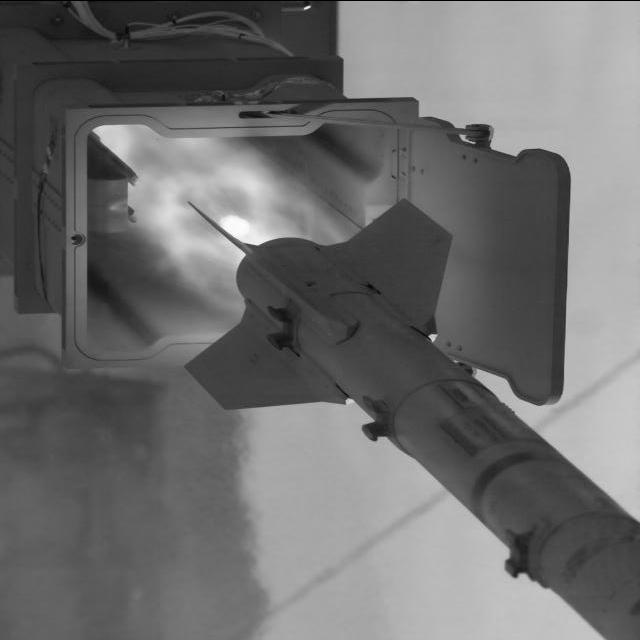Missile: (133, 172, 640, 640)
